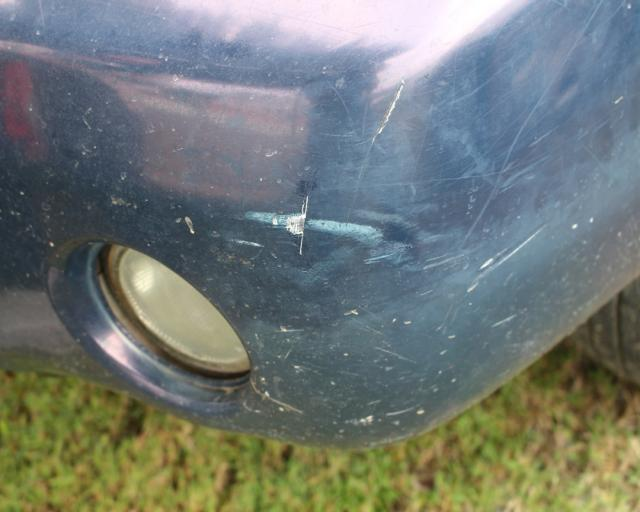scratch: (221, 196, 411, 267)
